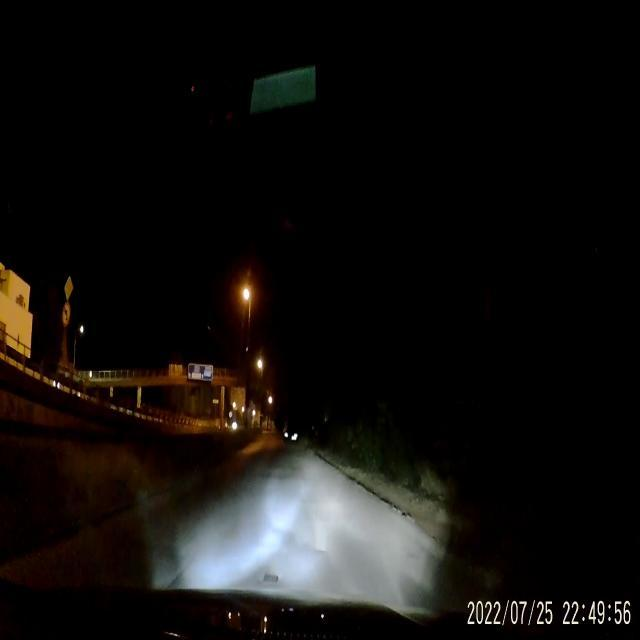Pothole: (260, 566, 282, 586)
